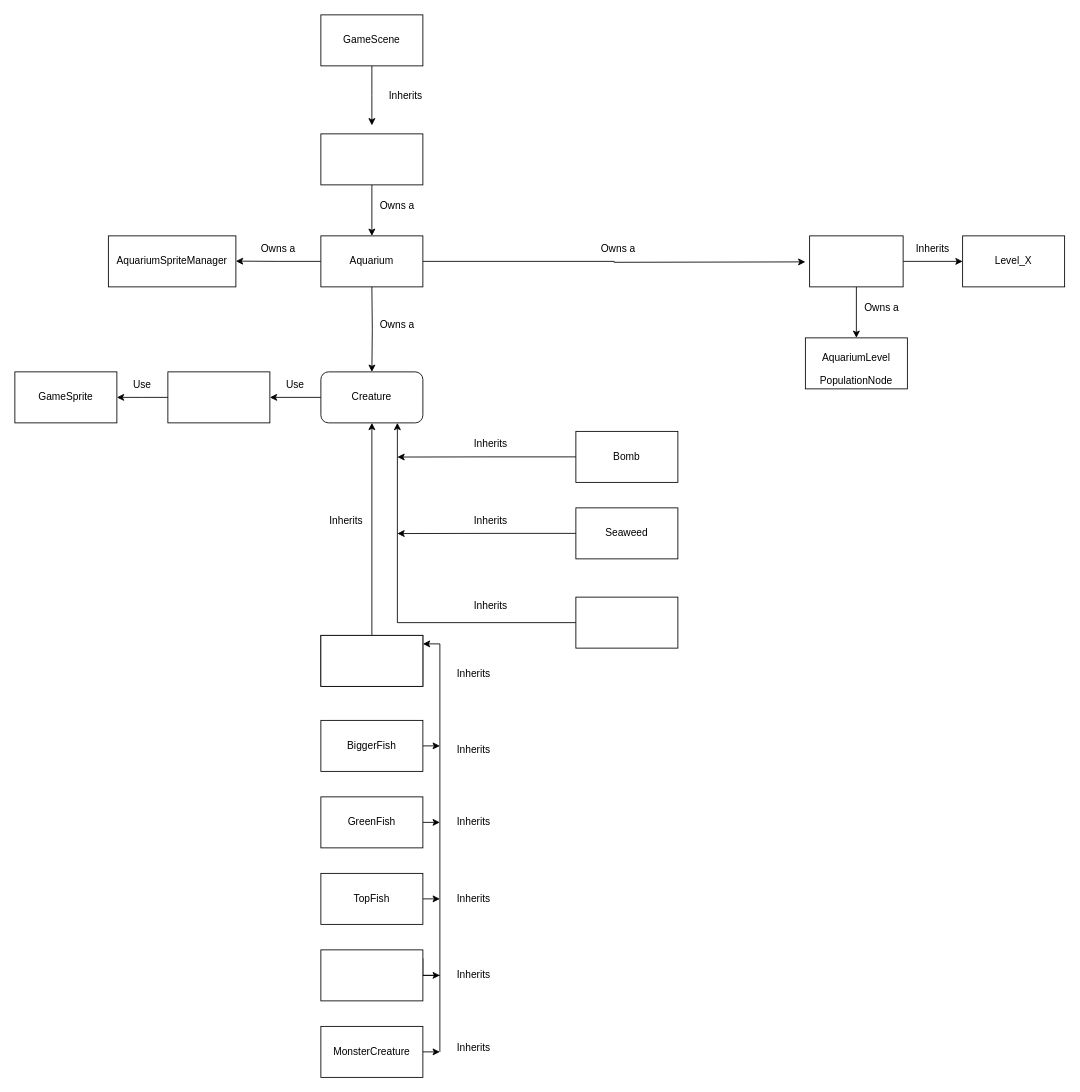
The diagram is 1080 pixels wide and 1092 high, and some of its shapes have lost their labels. The shapes that lost their labels are listed below. From the top down, each one's centre as x and y in pixels, then its label:
the point at 371,159: AquariumGameScene
the point at 856,261: Aquarium Level
the point at 218,397: GameSpriteManager
the point at 626,622: PlayerCreature
the point at 371,660: NPCreature
the point at 371,975: PinkFish
